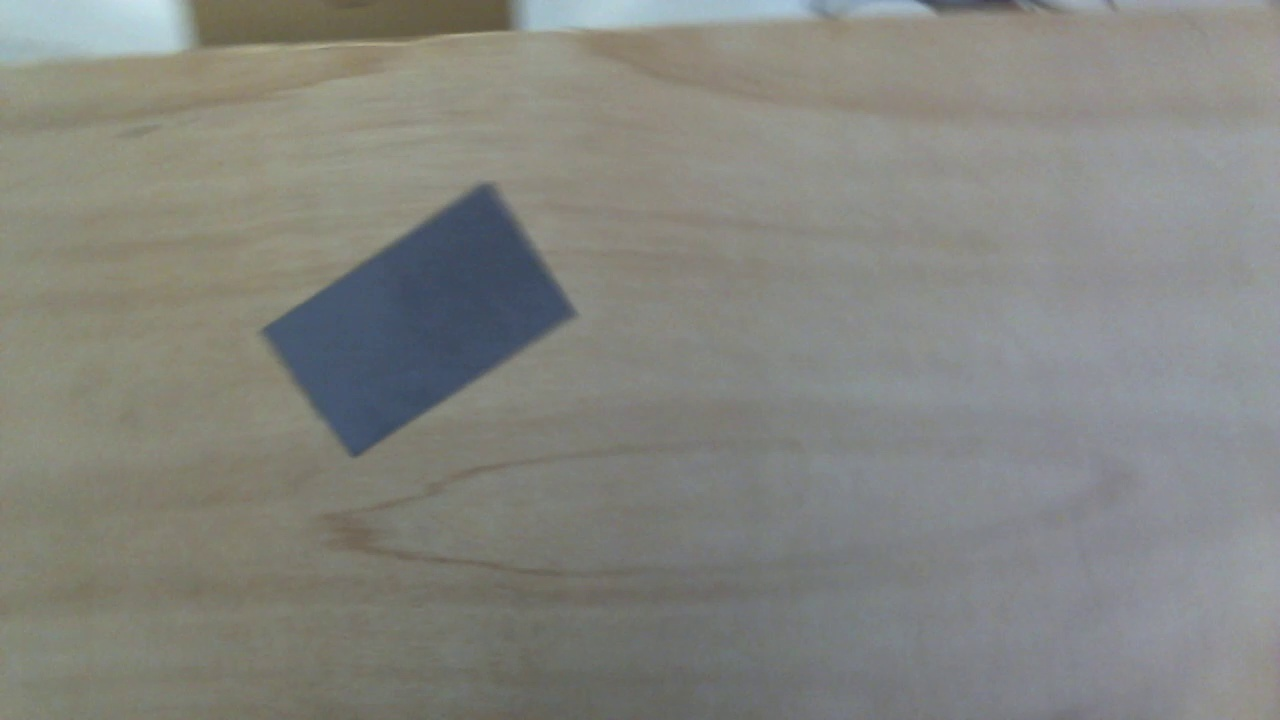Tape: (262, 182, 582, 455)
